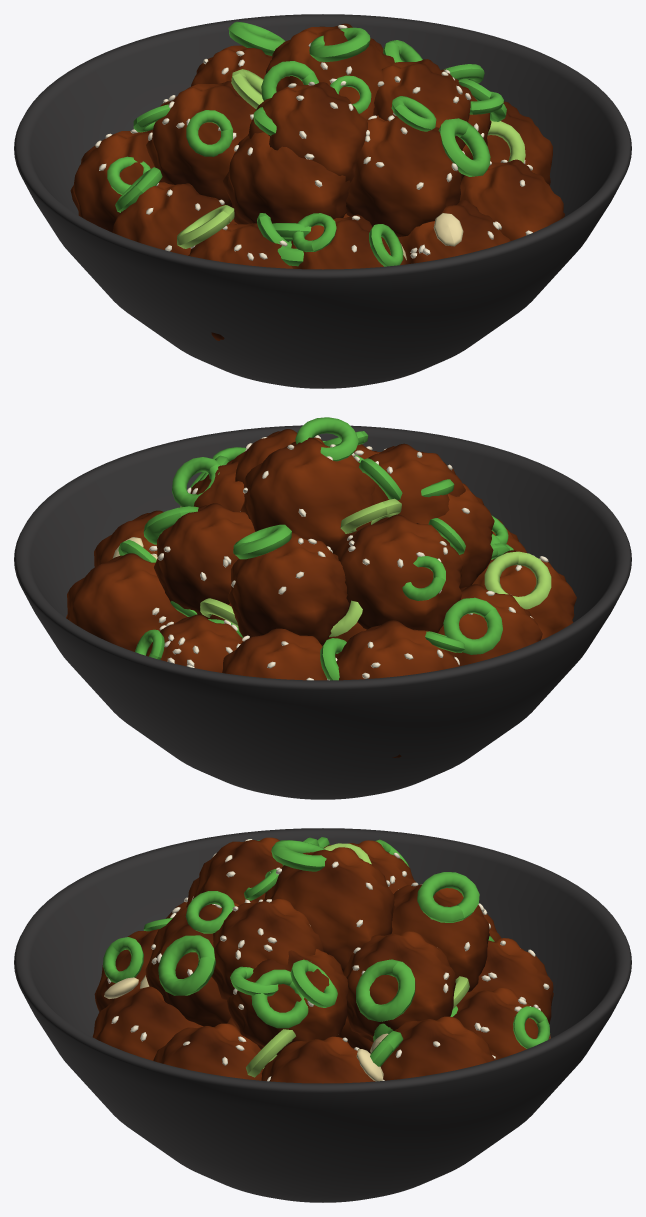
Rendered from manchurian.glb.
3 views of the same model, one above another, from view 1: azimuth 30°, elevation 25°; view 2: azimuth 150°, elevation 25°; view 3: azimuth 270°, elevation 25° (orthographic).
Parts seen in each view (by area): view 1: bowl, balls, onion, chilli, sesame, garlic; view 2: bowl, balls, onion, chilli, sesame; view 3: bowl, balls, onion, sesame, chilli, garlic.
Boxes of the visible parts, bbox=[...] form: bowl: bbox=[14, 14, 631, 388]; balls: bbox=[70, 23, 564, 340]; onion: bbox=[107, 21, 506, 266]; chilli: bbox=[177, 69, 525, 248]; sesame: bbox=[95, 25, 532, 260]; garlic: bbox=[401, 213, 463, 260]; bowl: bbox=[14, 425, 631, 799]; balls: bbox=[66, 429, 576, 757]; onion: bbox=[118, 417, 513, 680]; chilli: bbox=[180, 498, 551, 636]; sesame: bbox=[149, 435, 548, 680]; bowl: bbox=[14, 828, 631, 1202]; balls: bbox=[92, 837, 553, 1083]; onion: bbox=[103, 837, 550, 1066]; sesame: bbox=[107, 839, 549, 1081]; chilli: bbox=[246, 843, 469, 1077]; garlic: bbox=[104, 975, 388, 1081].
Bounding box in the file's own units: 0.224 × 0.1254 × 0.224.
